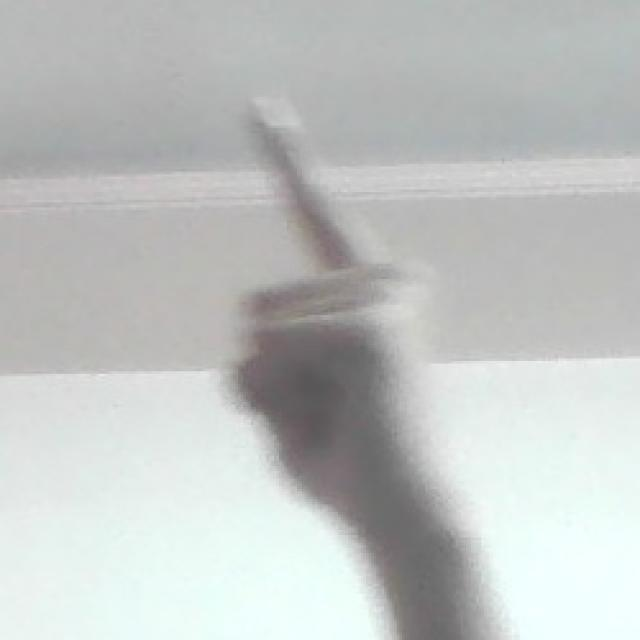Alphabet-I: (191, 77, 503, 581)
